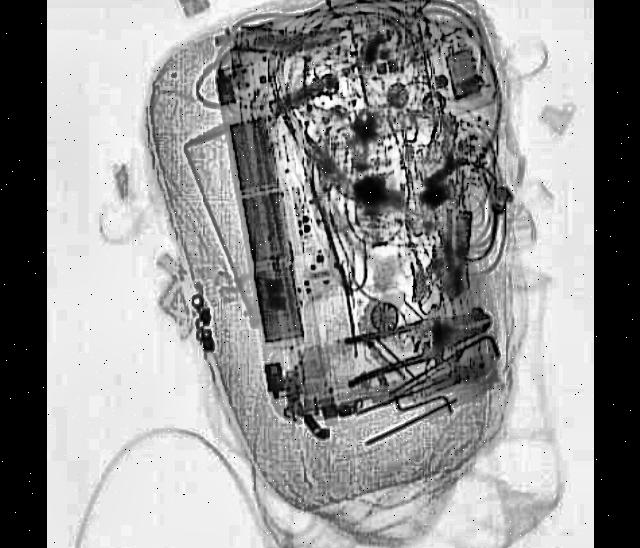Pliers: (341, 295, 497, 387)
